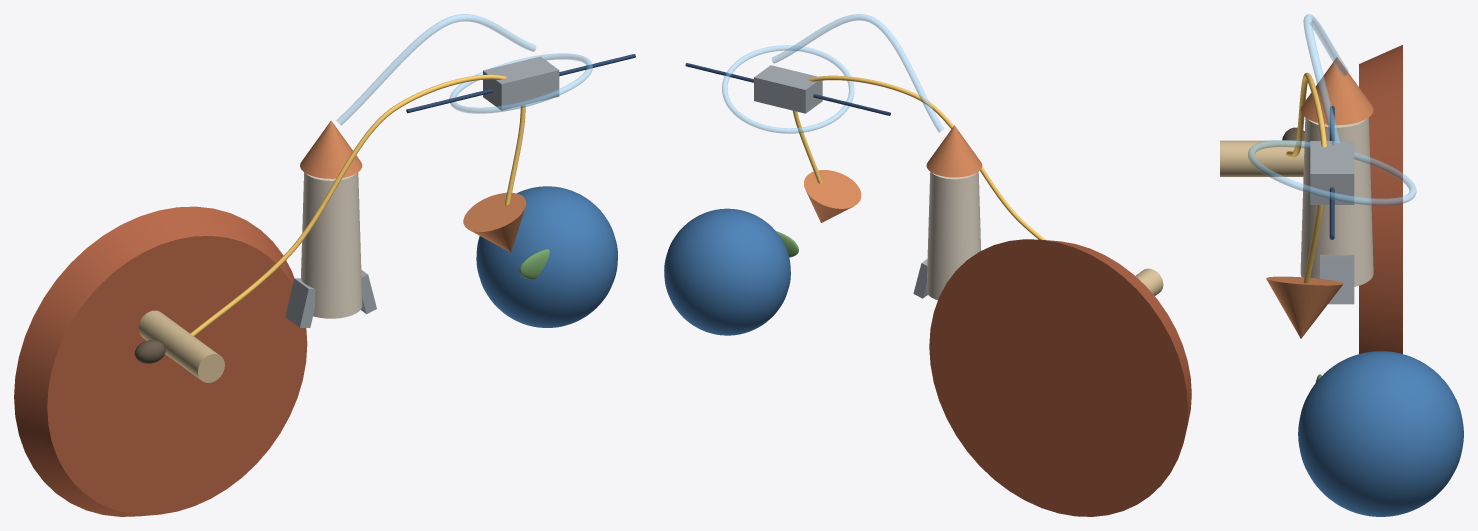
Rendered from sample-return-workflow-authored.glb.
The picture shows the model from 3 angles, left to right: view 1: azimuth 30°, elevation 25°; view 2: azimuth 150°, elevation 25°; view 3: azimuth 270°, elevation 25°; orthographic projection. The views are drawn at different scales.
Visible parts, largest first — view 1: select-sample-mars-surface-pad, land-earth-ocean, launch-ascent-vehicle-body, capture-return-orbiter-bus, clean-chain-sample-return-path, seal-cache-gold-sample-tube, land-reentry-capsule, launch-ascent-vehicle-nose, rendezvous-orbit-transfer-path, capture-orbital-rendezvous-ring, launch-ascent-vehicle-fin-left; view 2: select-sample-mars-surface-pad, land-earth-ocean, launch-ascent-vehicle-body, capture-return-orbiter-bus, land-reentry-capsule, capture-orbital-rendezvous-ring, launch-ascent-vehicle-nose, rendezvous-orbit-transfer-path, clean-chain-sample-return-path; view 3: land-earth-ocean, select-sample-mars-surface-pad, launch-ascent-vehicle-body, seal-cache-gold-sample-tube, capture-return-orbiter-bus, launch-ascent-vehicle-nose, land-reentry-capsule, capture-orbital-rendezvous-ring, rendezvous-orbit-transfer-path, clean-chain-sample-return-path, launch-ascent-vehicle-fin-right, capture-return-orbiter-solar-array-right.
Boxes of the visible parts, x1,y1,x2,y2 form: select-sample-mars-surface-pad: (14,206,307,516); land-earth-ocean: (476,186,617,327); launch-ascent-vehicle-body: (301,172,362,318); capture-return-orbiter-bus: (483,56,559,110); clean-chain-sample-return-path: (190,74,525,336); seal-cache-gold-sample-tube: (138,310,224,382); land-reentry-capsule: (463,192,526,252); launch-ascent-vehicle-nose: (300,120,362,178); rendezvous-orbit-transfer-path: (336,14,536,125); capture-orbital-rendezvous-ring: (449,53,592,113); launch-ascent-vehicle-fin-left: (285,278,315,327); select-sample-mars-surface-pad: (929,239,1191,516); land-earth-ocean: (664,208,790,335); launch-ascent-vehicle-body: (926,172,981,300); capture-return-orbiter-bus: (754,65,822,113); land-reentry-capsule: (804,170,861,222); capture-orbital-rendezvous-ring: (722,45,854,133); launch-ascent-vehicle-nose: (926,125,982,177); rendezvous-orbit-transfer-path: (771,14,944,132); clean-chain-sample-return-path: (792,75,1045,239); land-earth-ocean: (1298,351,1463,516); select-sample-mars-surface-pad: (1359,45,1402,353); launch-ascent-vehicle-body: (1300,117,1373,286); seal-cache-gold-sample-tube: (1220,140,1304,176); capture-return-orbiter-bus: (1310,141,1354,204); launch-ascent-vehicle-nose: (1300,57,1373,125); land-reentry-capsule: (1266,276,1343,338); capture-orbital-rendezvous-ring: (1248,139,1416,205); rendezvous-orbit-transfer-path: (1303,14,1348,145); clean-chain-sample-return-path: (1286,72,1326,283); launch-ascent-vehicle-fin-right: (1320,254,1354,304); capture-return-orbiter-solar-array-right: (1329,187,1334,239).
Size of what is drawn, in the model's own units: 3.27 by 2.46 by 1.
